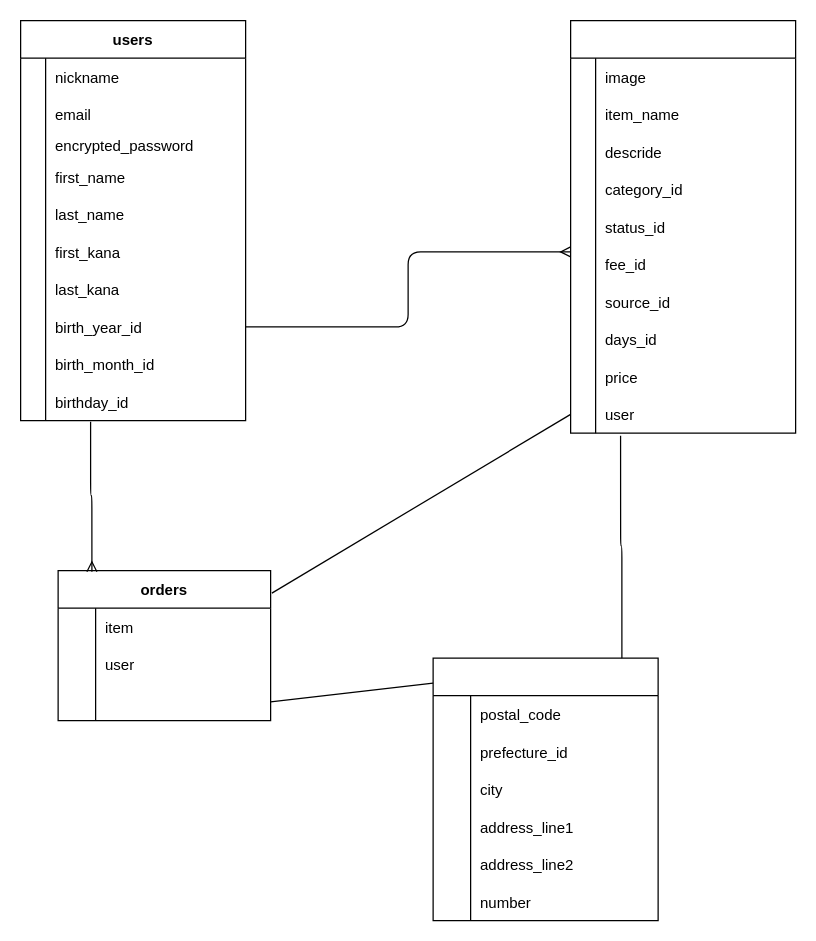
Some shapes in this 816 by 941 pixel diagram are drawn without their labels. Here are the shapes that lost their labels. From the top down, the box of each, then its label:
(569, 19, 796, 433): items
(432, 657, 658, 921): deliveries
